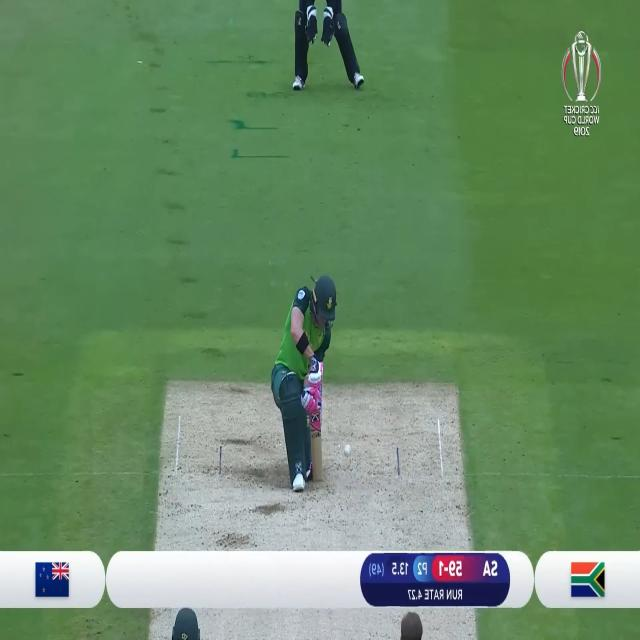ball: (344, 442, 352, 458)
